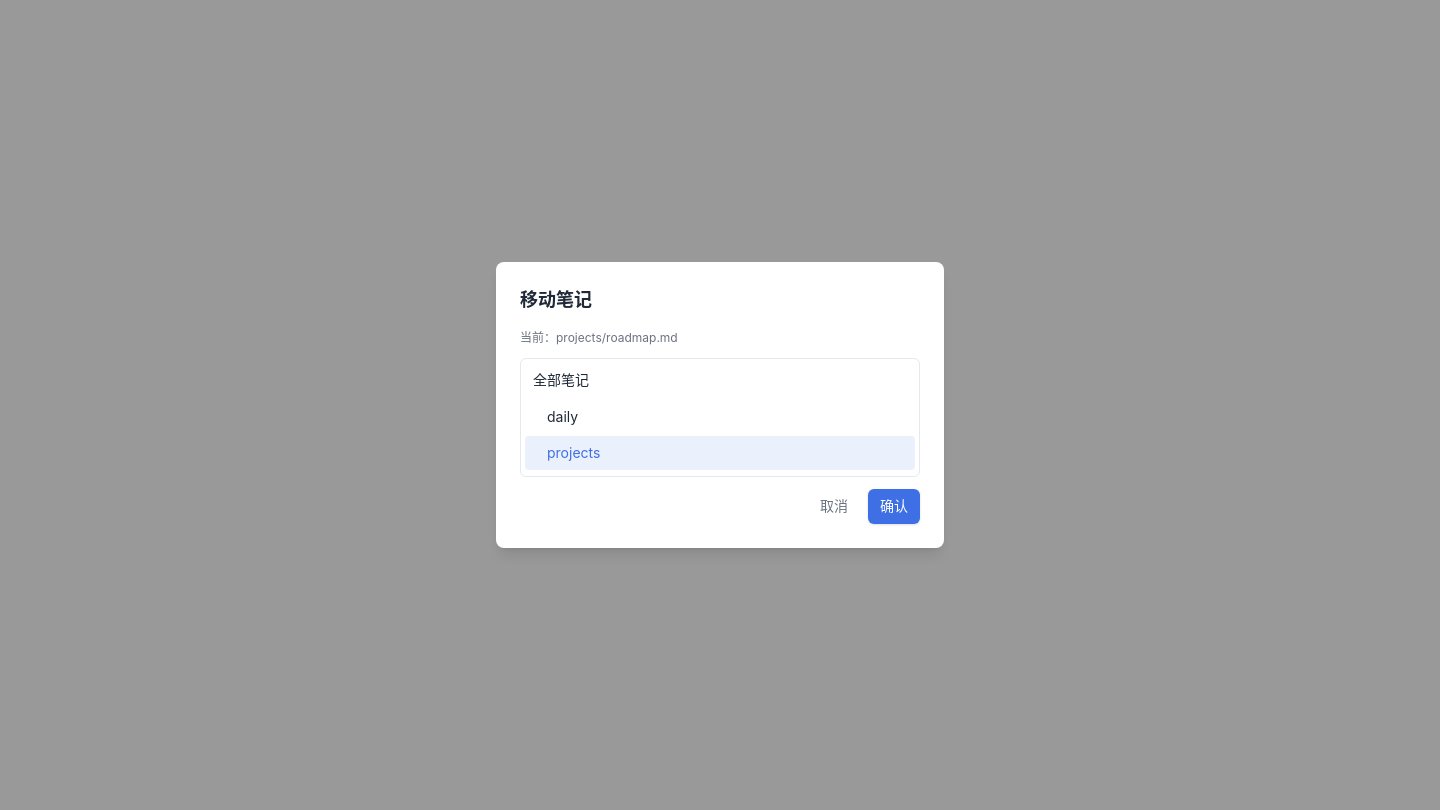
MoveNoteDialog 草稿落盘顺序 › 草稿落盘失败时中止移动并展示错误
Click the list item "daily": (563, 416) left=525, top=400, right=915, bottom=434
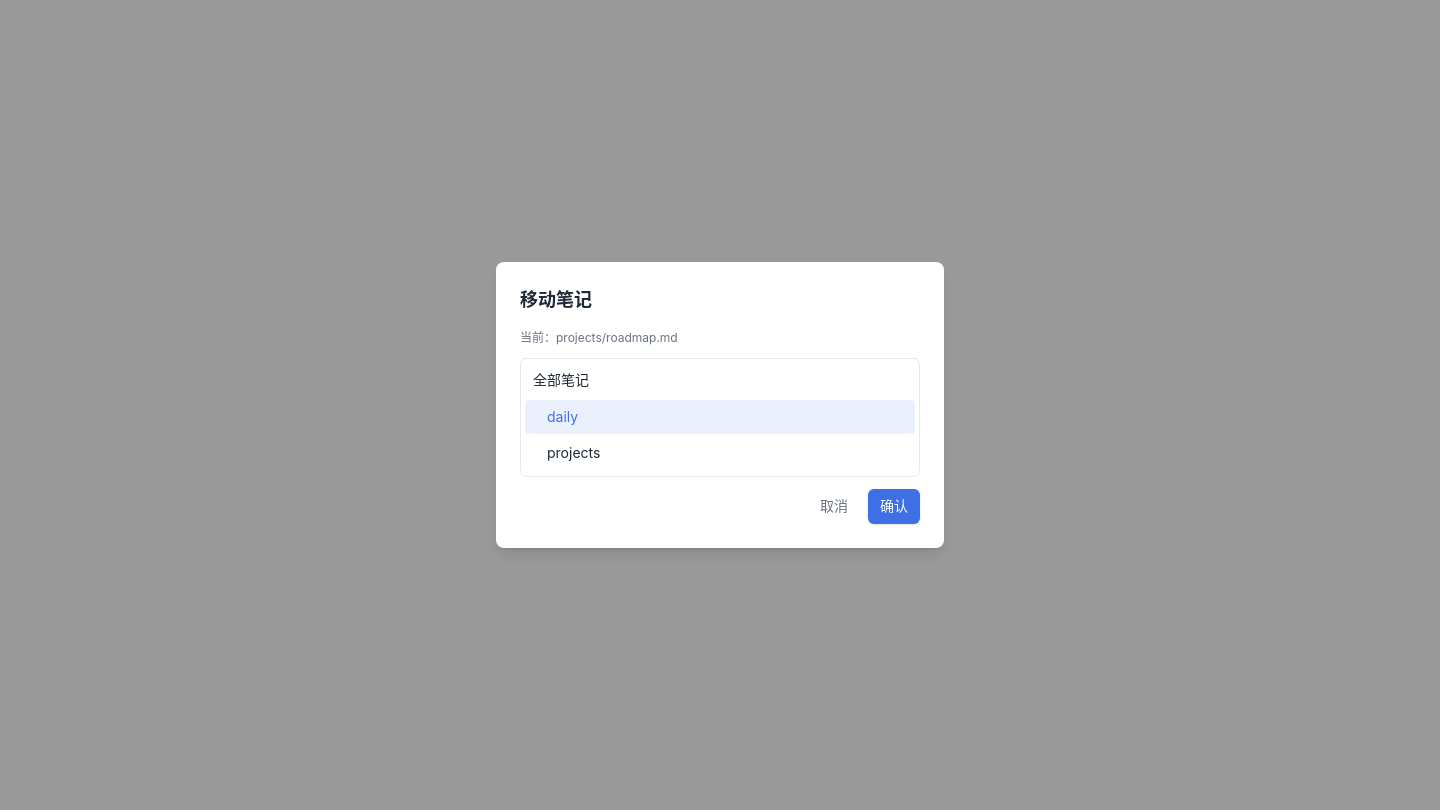
Click the button "确认": (894, 507) left=868, top=489, right=920, bottom=524
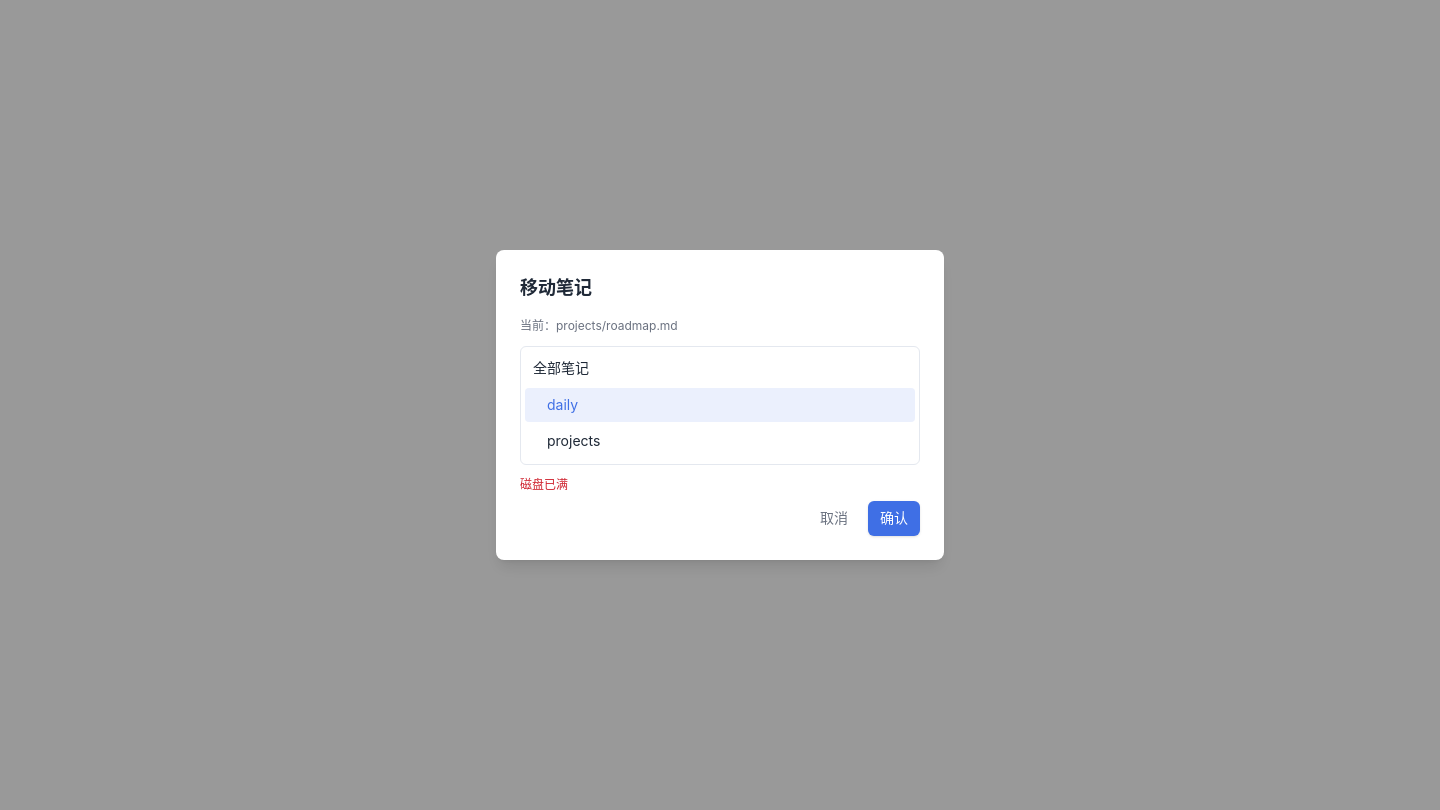
Now the text "磁盘已满" is shown, box left=520, top=477, right=568, bottom=492
